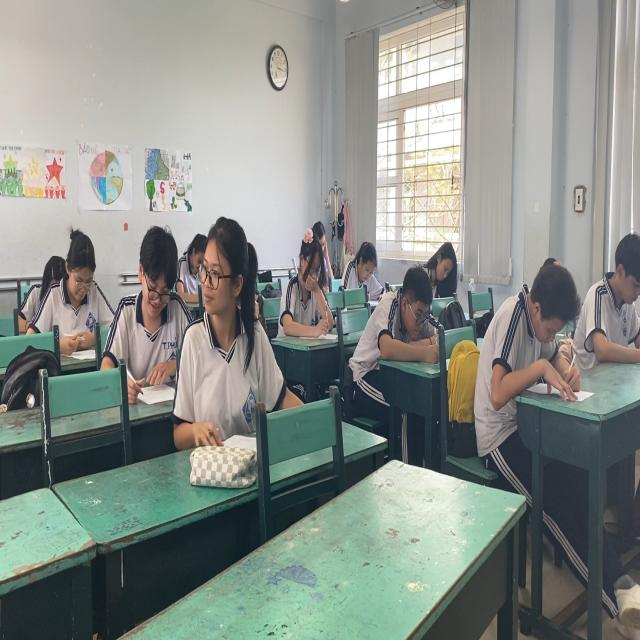cheating: (189, 219, 270, 420)
not_cheating: (480, 254, 580, 399), (113, 223, 185, 381), (576, 223, 640, 353), (28, 229, 104, 330), (282, 226, 337, 347), (377, 268, 438, 344), (340, 223, 380, 305), (426, 240, 463, 295)
